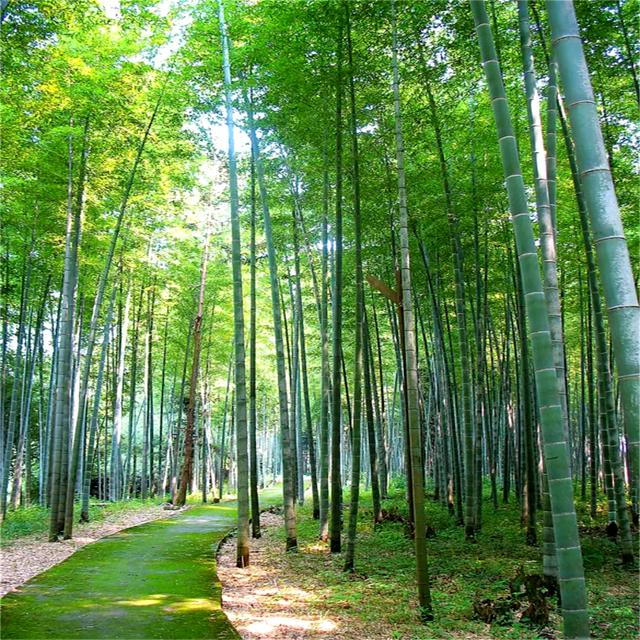Running: (236, 0, 640, 640), (6, 0, 210, 554)
